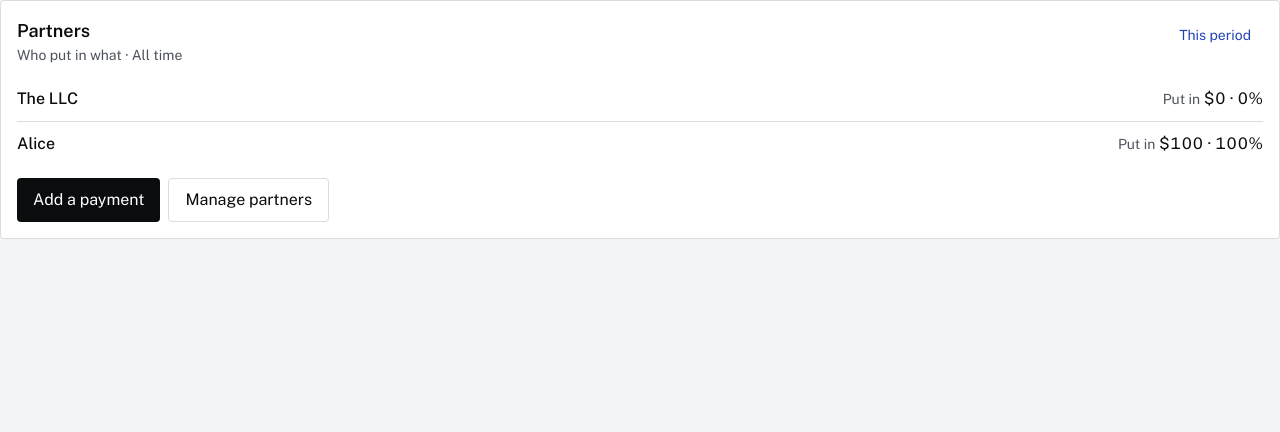
Test case: Partners card › shows The LLC first, Put in and percent; expands all five kinds
The width and height of the screenshot is (1280, 432).
Click the button titled "Show what Alice put in" at (36, 144), box x1=17 y1=122 x2=1263 y2=166
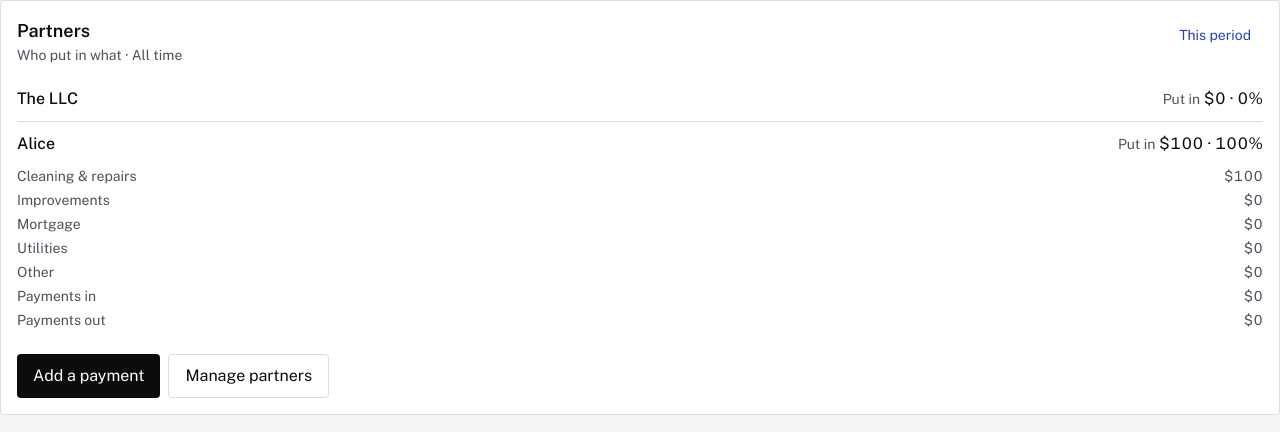
Expected: the text "Cleaning & repairs" is shown, x1=17 y1=166 x2=137 y2=186
Expected: the text "Improvements" is shown, x1=17 y1=190 x2=110 y2=210
Expected: the text "Payments in" is shown, x1=17 y1=286 x2=96 y2=306
